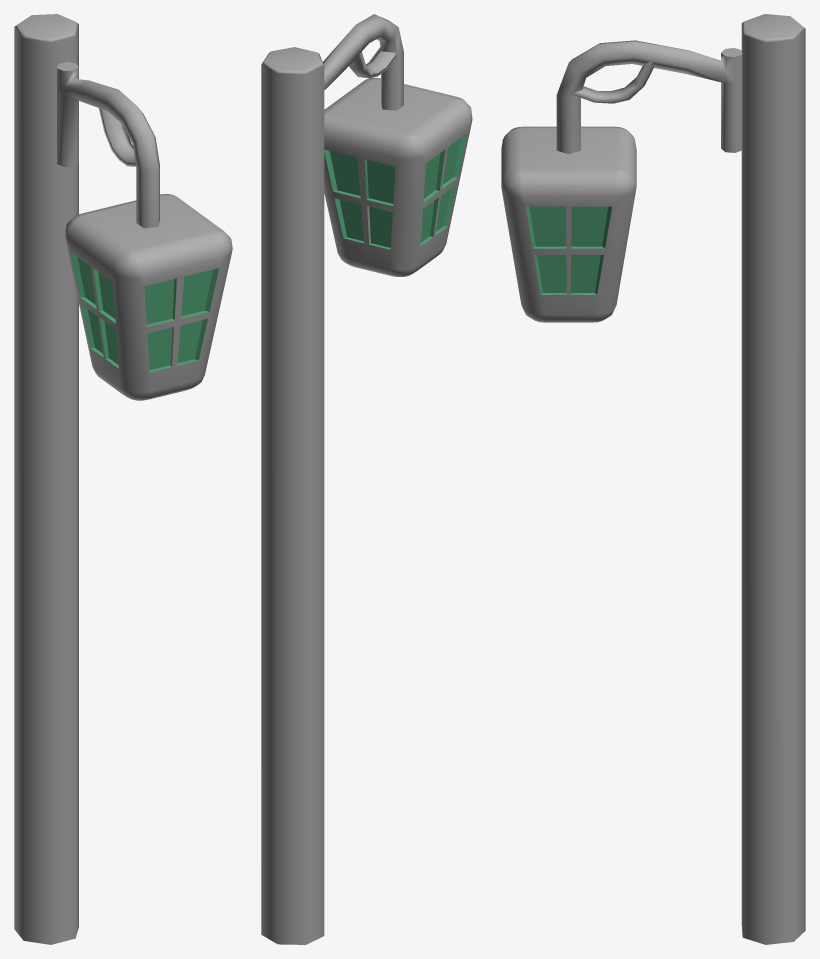
Rendered from stolb 2.fbx.
3 views of the same model, side by side, from view 1: azimuth 30°, elevation 25°; view 2: azimuth 150°, elevation 25°; view 3: azimuth 270°, elevation 25° (orthographic). The views are drawn at different scales.
Parts seen in each view (by area): view 1: pCube2; view 2: pCube2; view 3: pCube2.
Part boxes in pixels (left/top/right/bottom): pCube2: left=14, top=14, right=232, bottom=944; pCube2: left=261, top=14, right=472, bottom=944; pCube2: left=501, top=14, right=805, bottom=944.
Size of the model in its own units: 7.5 by 55.36 by 16.88.
